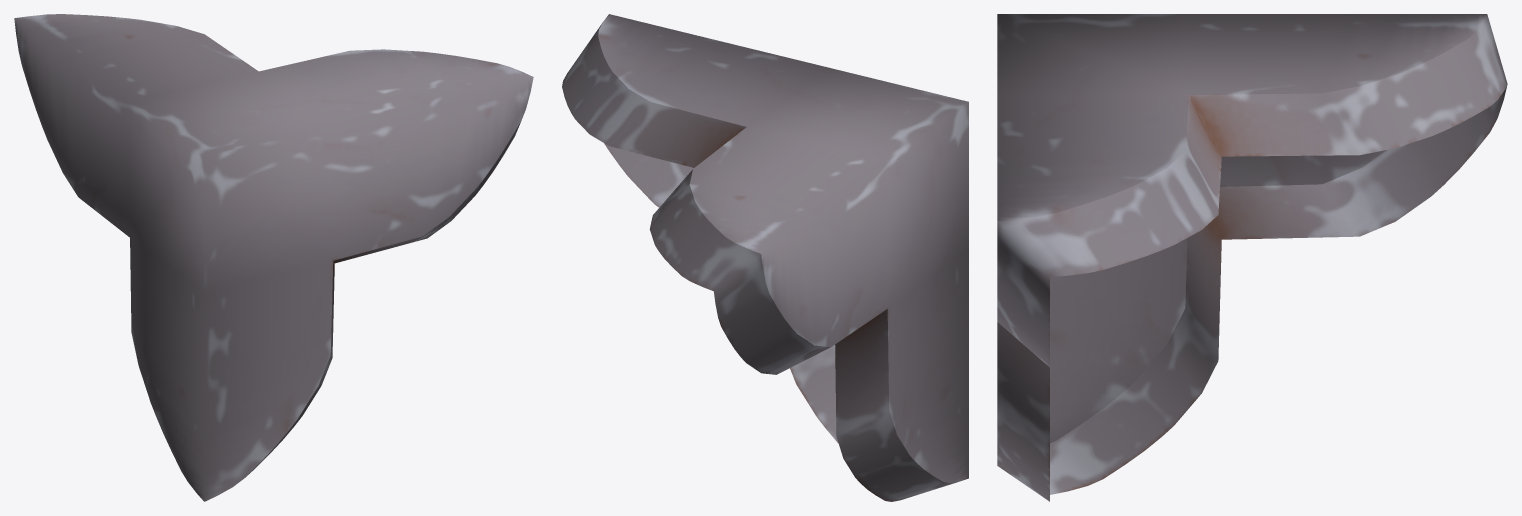
The model's file is Parts_Handle_Corner.fbx.
The picture shows the model from 3 angles, left to right: view 1: azimuth 30°, elevation 25°; view 2: azimuth 150°, elevation 25°; view 3: azimuth 270°, elevation 25°; orthographic projection. The views are drawn at different scales.
Parts seen in each view (by area): view 1: Parts_Handle_Corner; view 2: Parts_Handle_Corner; view 3: Parts_Handle_Corner.
Part boxes in pixels (bbox=[...]): Parts_Handle_Corner: bbox=[14, 14, 533, 501]; Parts_Handle_Corner: bbox=[562, 14, 968, 501]; Parts_Handle_Corner: bbox=[997, 14, 1507, 501].
Size of the model in its own units: 16.66 by 16.52 by 16.66.
